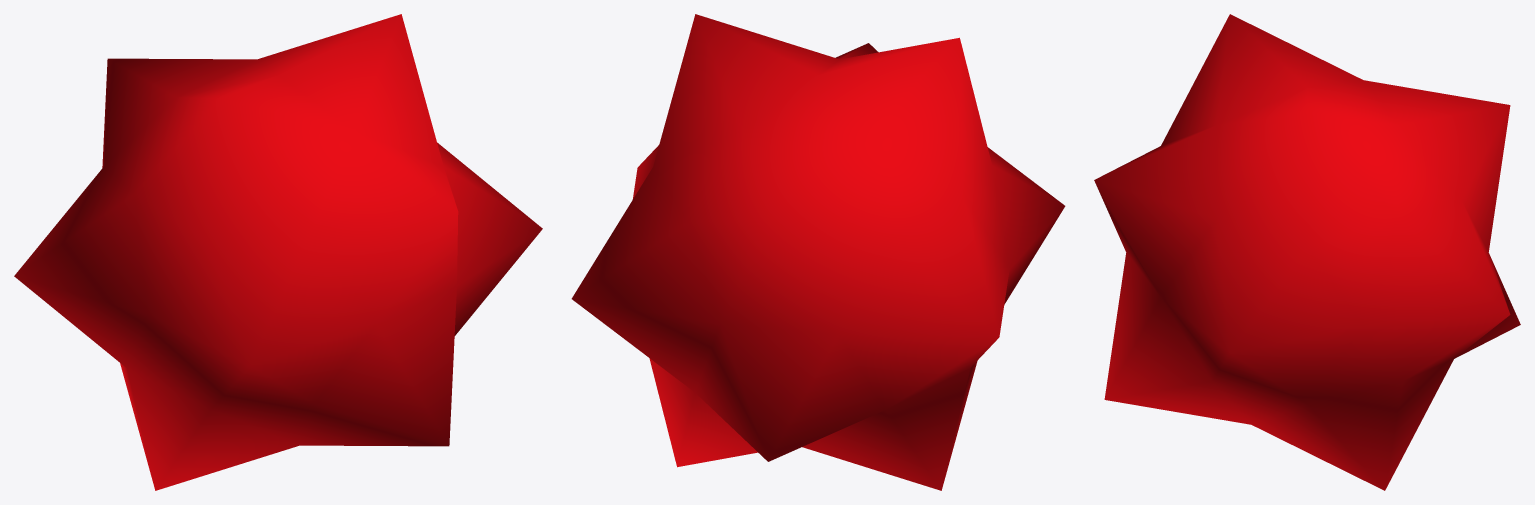
The model's file is enemy-aimless1.glb.
The picture shows the model from 3 angles, left to right: view 1: azimuth 30°, elevation 25°; view 2: azimuth 150°, elevation 25°; view 3: azimuth 270°, elevation 25°; orthographic projection. The views are drawn at different scales.
Visible parts, largest first — view 1: enemy_temp; view 2: enemy_temp; view 3: enemy_temp.
Part boxes in pixels (left/top/right/bottom): enemy_temp: left=14, top=14, right=542, bottom=490; enemy_temp: left=571, top=14, right=1065, bottom=490; enemy_temp: left=1094, top=14, right=1520, bottom=490.
Bounding box in the file's own units: 0.8768 × 0.7842 × 0.7842.
